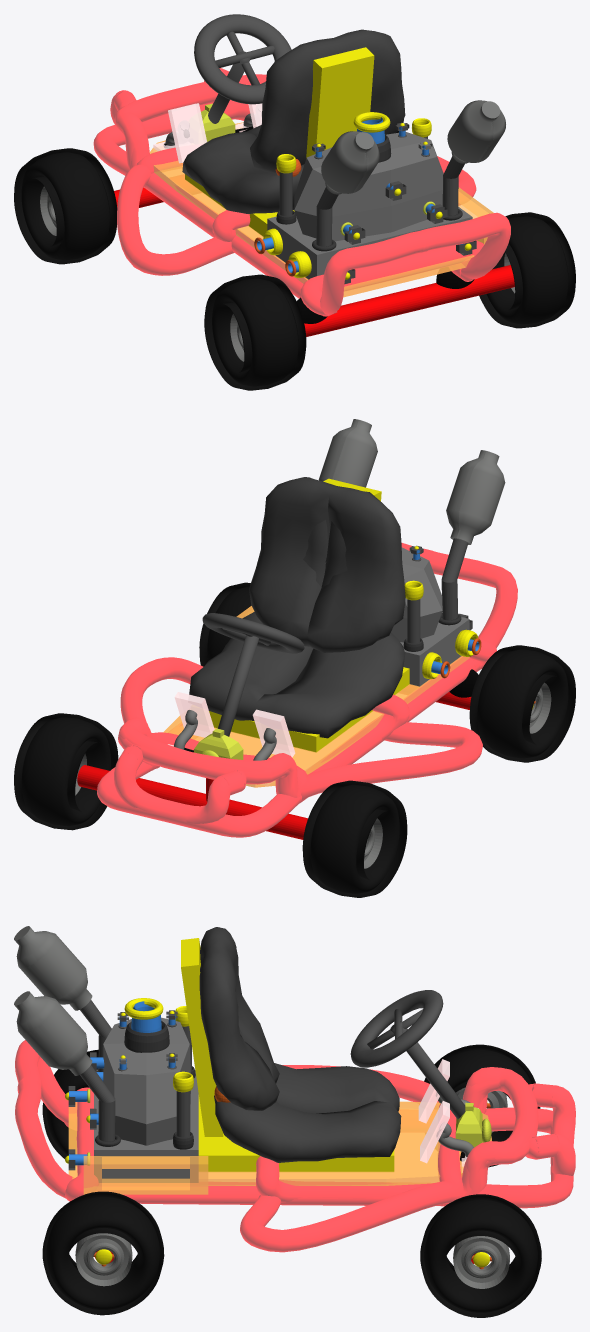
File: go_kart_64.glb
3 views of the same model, one above another, from view 1: azimuth 30°, elevation 25°; view 2: azimuth 150°, elevation 25°; view 3: azimuth 270°, elevation 25° (orthographic). The views are drawn at different scales.
Parts seen in each view (by area): view 1: BezierCurve, Torus.006, Sphere, Torus.002, Torus.001, Torus.025, Torus, Cube.007, Cube, BezierCurve.001; view 2: Sphere, BezierCurve, Torus.006, Torus.001, Torus.002, Torus.003, Torus, Cube, Cube.007, Torus.025, BezierCurve.001, BezierCurve.002; view 3: BezierCurve, Torus.006, Sphere, Torus.025, Torus.003, Cube.007, Torus, Cube, Torus.002, Torus.001, BezierCurve.002, BezierCurve.001.
Boxes of the visible parts, x1,y1,x2,y2 form: BezierCurve: (93, 68, 514, 336); Torus.006: (254, 100, 505, 284); Sphere: (182, 29, 405, 213); Torus.002: (14, 148, 117, 264); Torus.001: (204, 274, 306, 390); Torus.025: (478, 212, 575, 328); Torus: (114, 14, 291, 207); Cube.007: (185, 47, 374, 236); Cube: (149, 122, 474, 297); BezierCurve.001: (153, 103, 206, 163); Sphere: (189, 477, 405, 738); BezierCurve: (97, 543, 517, 837); Torus.006: (236, 419, 505, 686); Torus.001: (469, 645, 575, 762); Torus.002: (302, 780, 407, 897); Torus.003: (14, 713, 118, 830); Torus: (77, 613, 307, 839); Cube: (163, 656, 469, 787); Cube.007: (209, 478, 409, 752); Torus.025: (199, 582, 251, 666); BezierCurve.001: (252, 709, 295, 785); BezierCurve.002: (168, 692, 214, 749); BezierCurve: (15, 1040, 575, 1263); Torus.006: (14, 926, 208, 1194); Sphere: (199, 927, 401, 1162); Torus.025: (42, 1191, 164, 1315); Torus.003: (420, 1194, 541, 1317); Cube.007: (181, 938, 394, 1171); Torus: (350, 990, 491, 1263); Cube: (68, 1101, 491, 1185); Torus.002: (424, 1044, 540, 1167); Torus.001: (42, 1049, 98, 1158); BezierCurve.002: (420, 1101, 473, 1172); BezierCurve.001: (418, 1059, 478, 1123).
Bounding box in the file's own units: 0.1199 × 0.092 × 0.1589.
